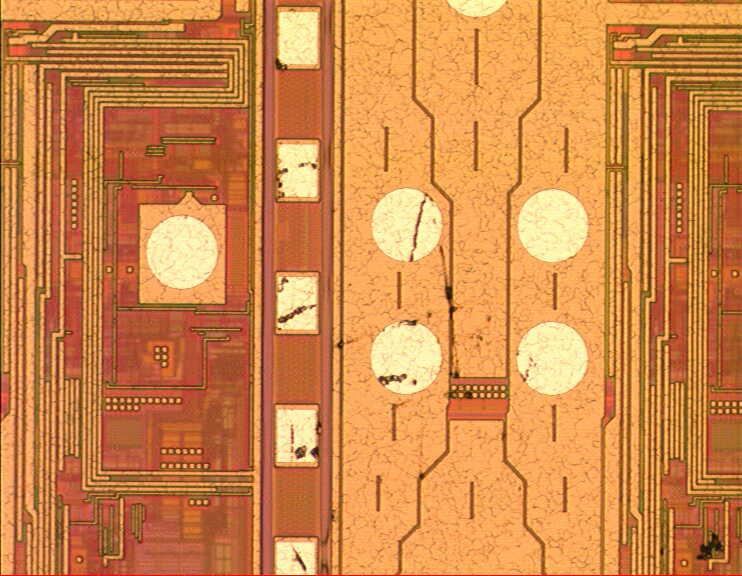PO CONTAMINATION: (263, 51, 733, 576)
